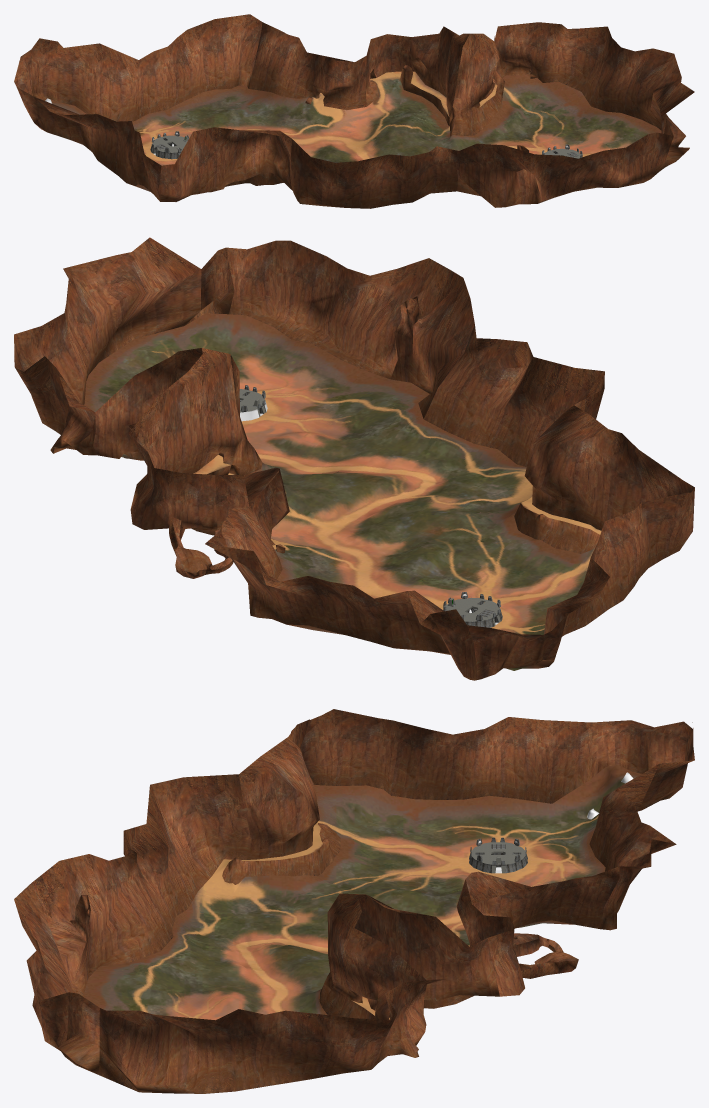
File: blood_gulch.glb
The picture shows the model from 3 angles, top to bottom: view 1: azimuth 30°, elevation 25°; view 2: azimuth 150°, elevation 25°; view 3: azimuth 270°, elevation 25°; orthographic projection. The views are drawn at different scales.
Visible parts, largest first — view 1: Object_6, Object_3, Object_14, Object_11; view 2: Object_6, Object_3, Object_14; view 3: Object_6, Object_3, Object_14.
Part boxes in pixels (x1,y1,x2,y2): Object_6: (14, 14, 694, 208); Object_3: (35, 71, 661, 194); Object_14: (152, 135, 580, 158); Object_11: (151, 131, 582, 157); Object_6: (14, 237, 694, 680); Object_3: (62, 313, 601, 670); Object_14: (239, 389, 500, 621); Object_6: (14, 709, 694, 1093); Object_3: (84, 764, 641, 1020); Object_14: (471, 842, 525, 864).
Bounding box in the file's own units: 442 × 81.02 × 384.
Materials: 14 (7 with a texture image).
